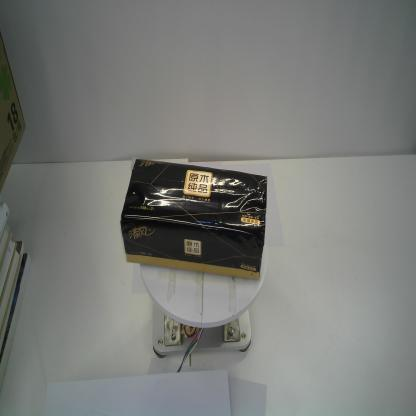Tissue: (118, 157, 268, 283)
